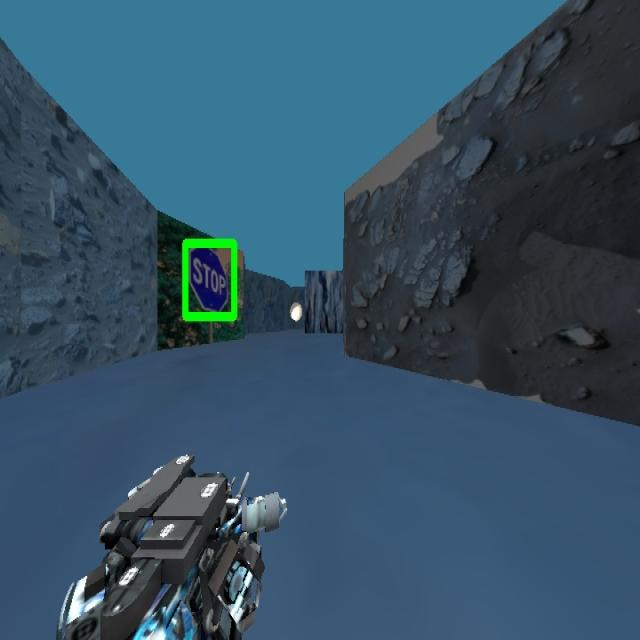Circle: (289, 300, 302, 321)
Stop_Sign: (180, 236, 238, 323)
